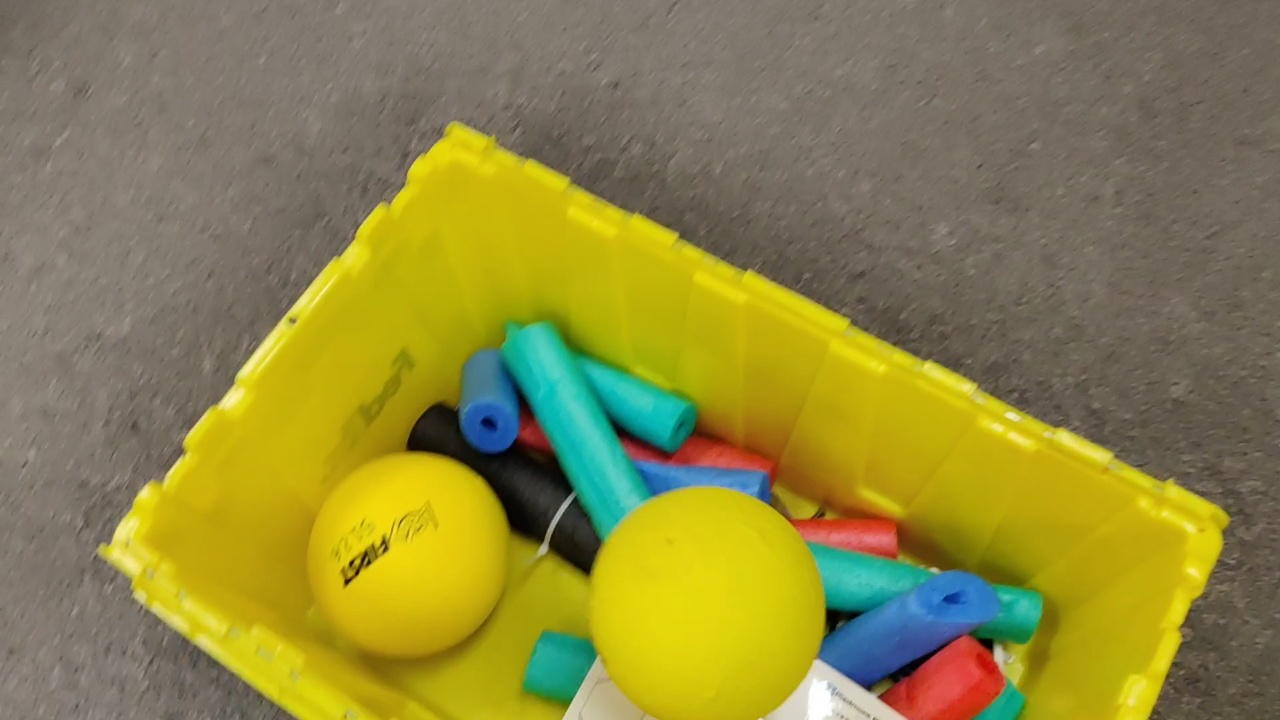Ball: (587, 483, 830, 720), (301, 450, 511, 660)
